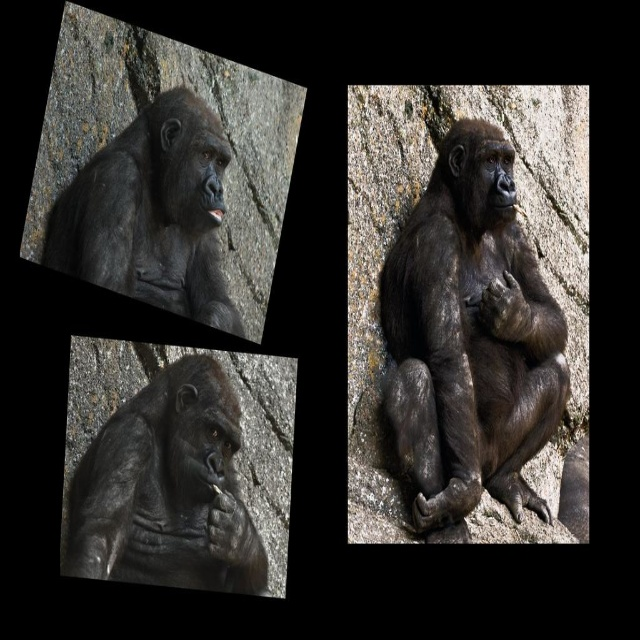Monkey: (377, 119, 571, 542), (42, 82, 246, 338), (66, 348, 270, 596)
